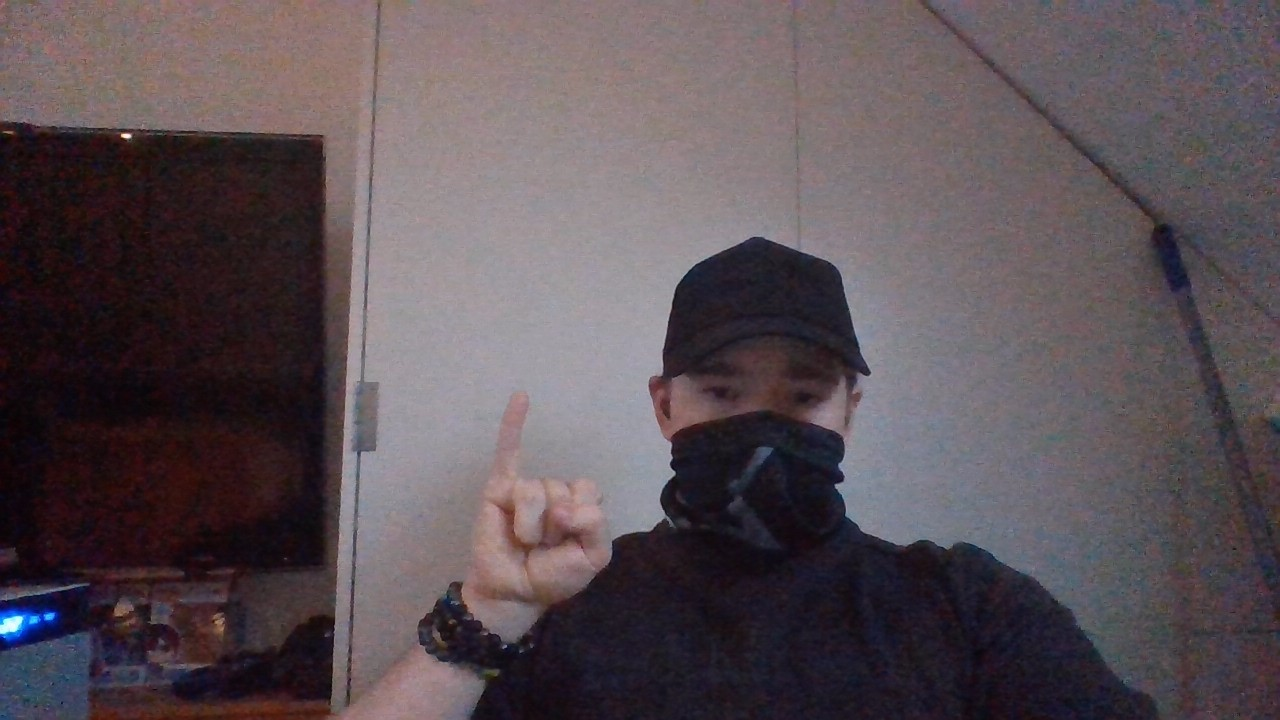I" Sign language: (452, 384, 619, 612)
